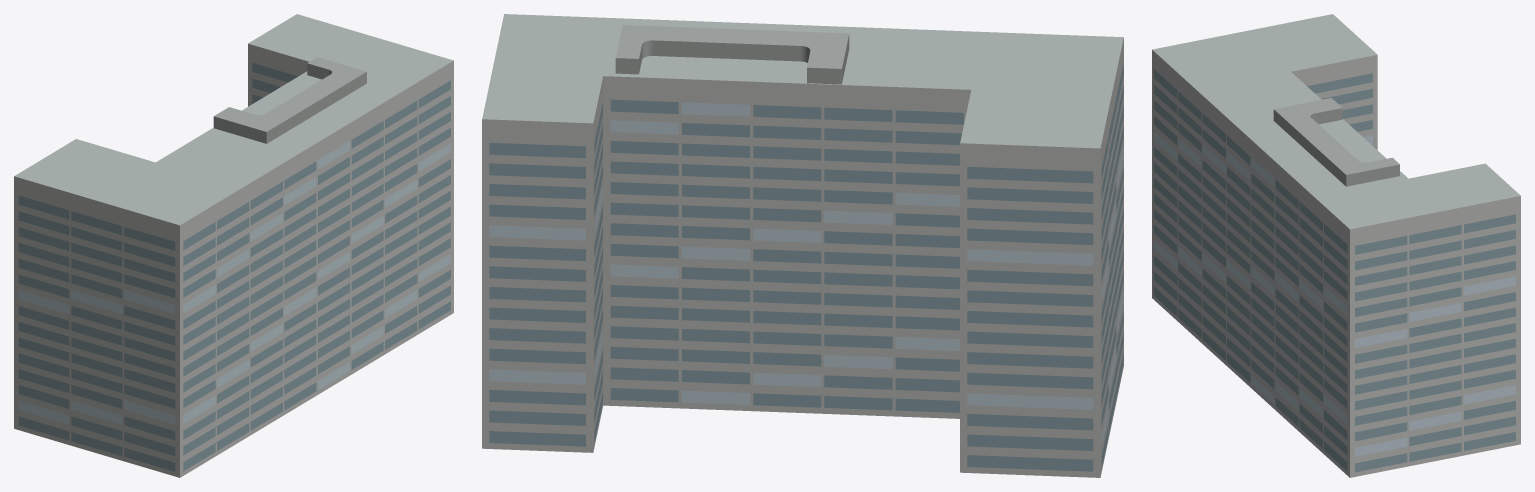
Rendered from apt-a15208201.glb.
The picture shows the model from 3 angles, left to right: view 1: azimuth 30°, elevation 25°; view 2: azimuth 150°, elevation 25°; view 3: azimuth 270°, elevation 25°; orthographic projection. The views are drawn at different scales.
Parts seen in each view (by area): view 1: apt-a15208201; view 2: apt-a15208201; view 3: apt-a15208201.
Boxes of the visible parts, box(x1,y1,x2,y2) form: apt-a15208201: box(14, 14, 453, 477); apt-a15208201: box(482, 14, 1123, 477); apt-a15208201: box(1152, 14, 1520, 477).
Bounding box in the file's own units: 76.32 × 43 × 55.24.
